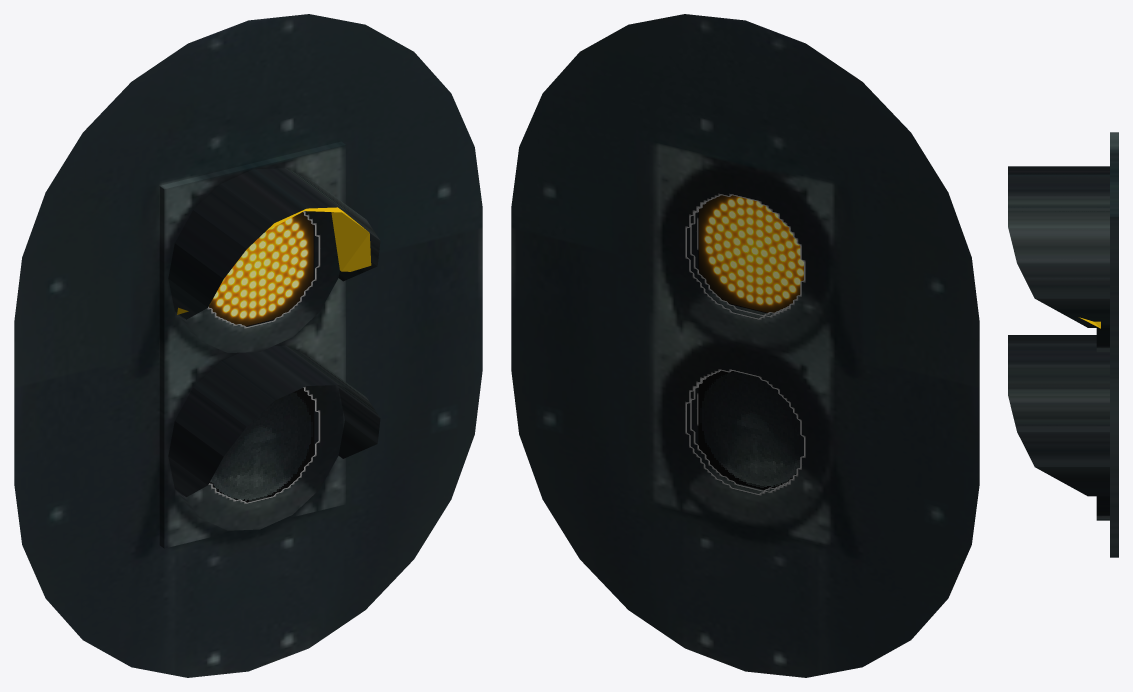
The model's file is Signal0L2.obj.
The picture shows the model from 3 angles, left to right: view 1: azimuth 30°, elevation 25°; view 2: azimuth 150°, elevation 25°; view 3: azimuth 270°, elevation 25°; orthographic projection. The views are drawn at different scales.
Bounding box in the file's own units: 0.58 × 0.77 × 0.125.
